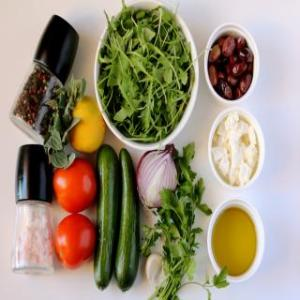cucumber: (118, 150, 138, 292), (97, 148, 113, 290)
onion: (140, 148, 176, 208)
tomato: (54, 215, 96, 267), (52, 162, 96, 210)
